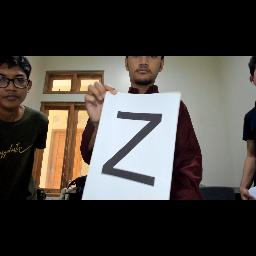z: (99, 106, 175, 186)
